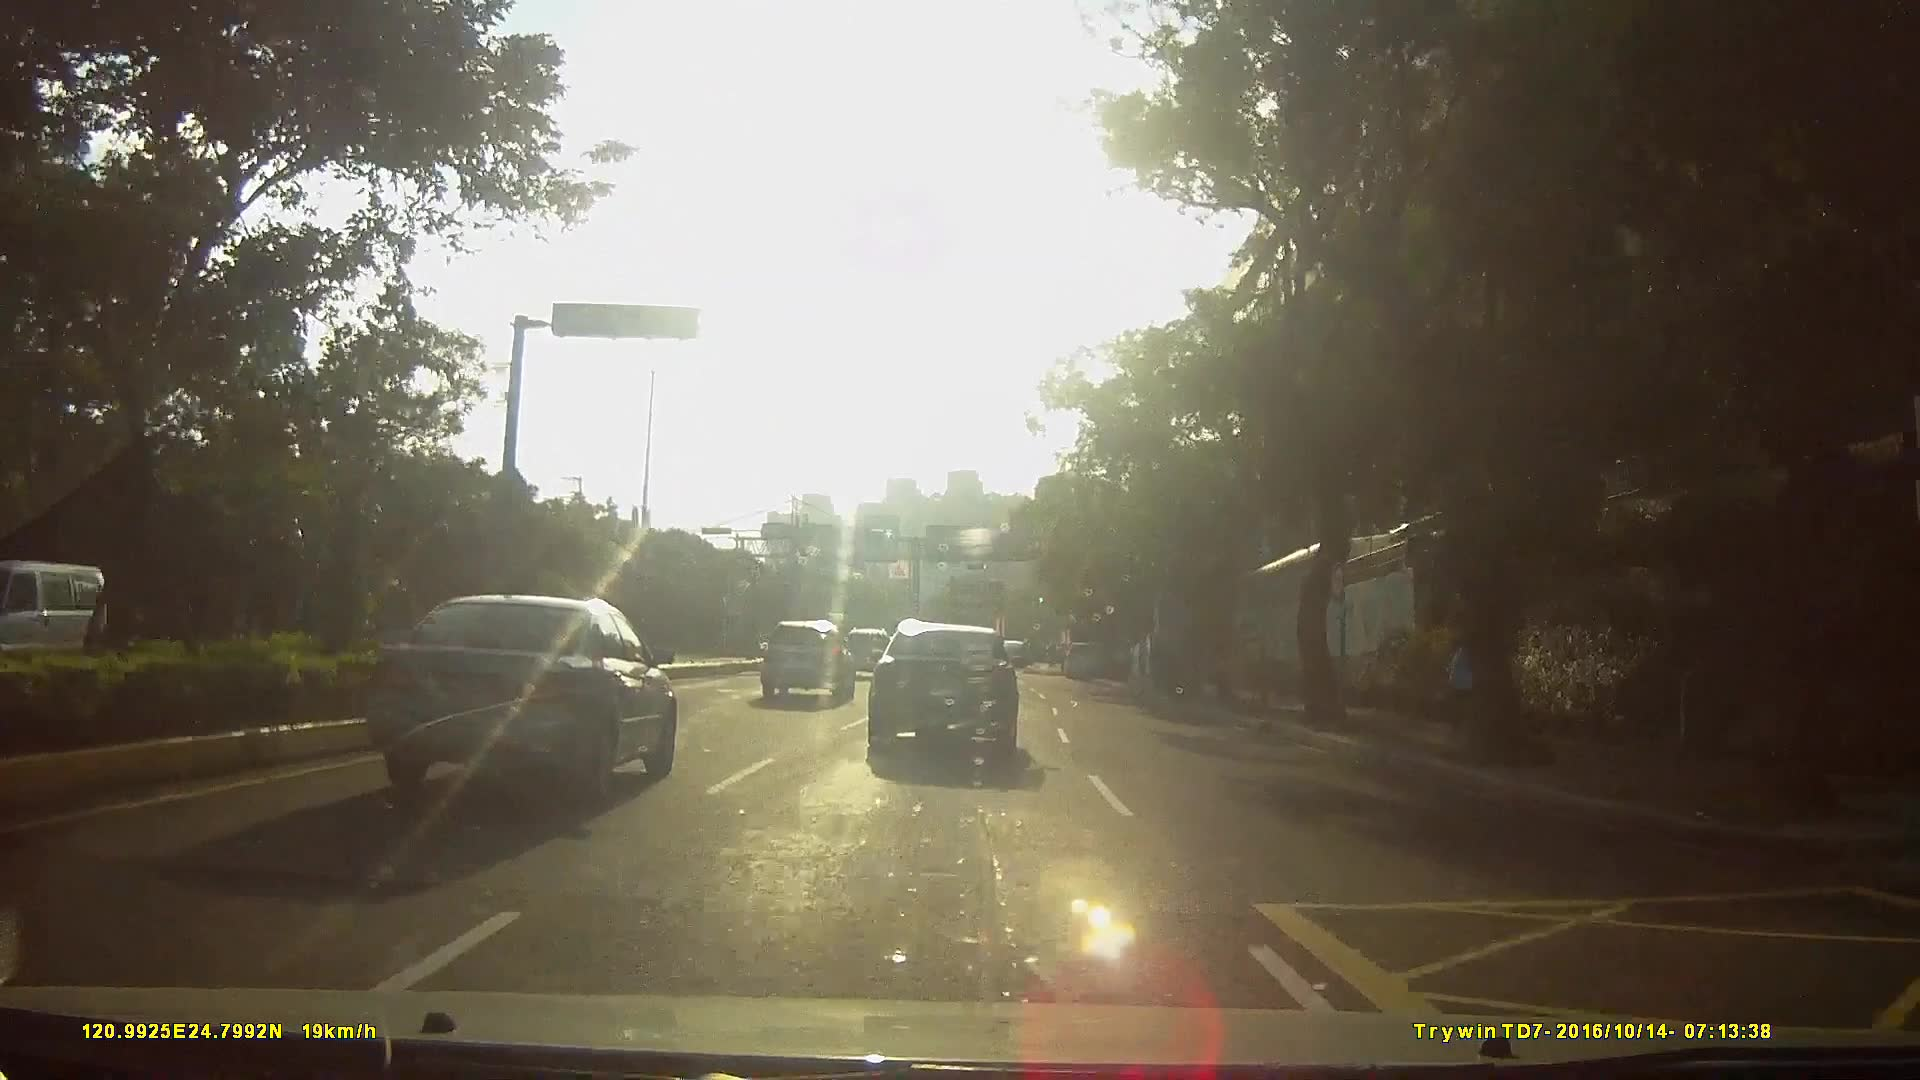vehicle: (367, 589, 676, 806), (866, 617, 1043, 764), (1, 563, 128, 694), (757, 615, 857, 703), (841, 626, 895, 673), (1065, 636, 1113, 678)
